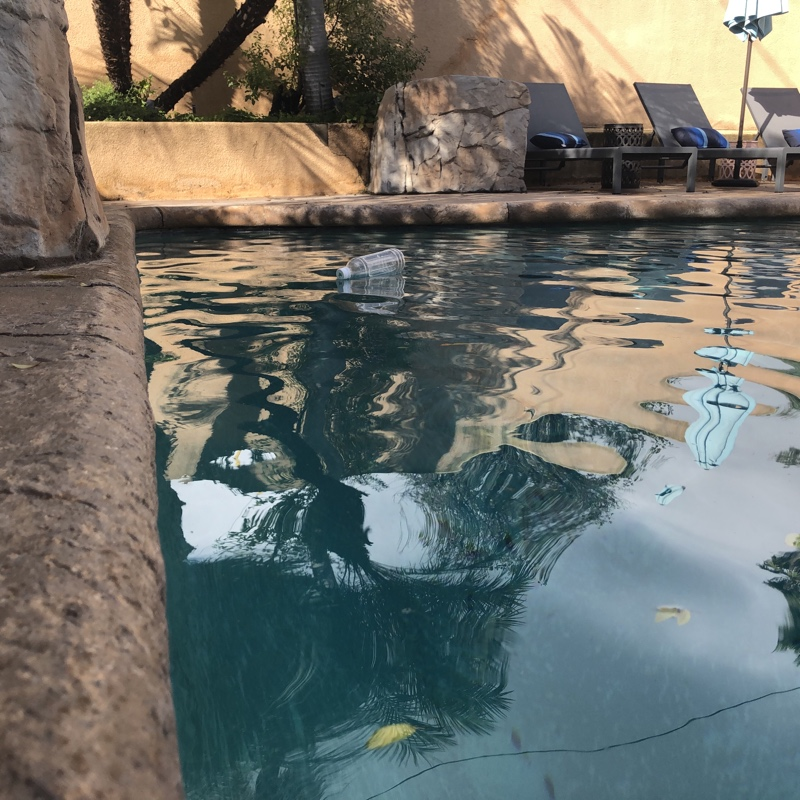Plastic Bottle: (334, 245, 405, 283)
